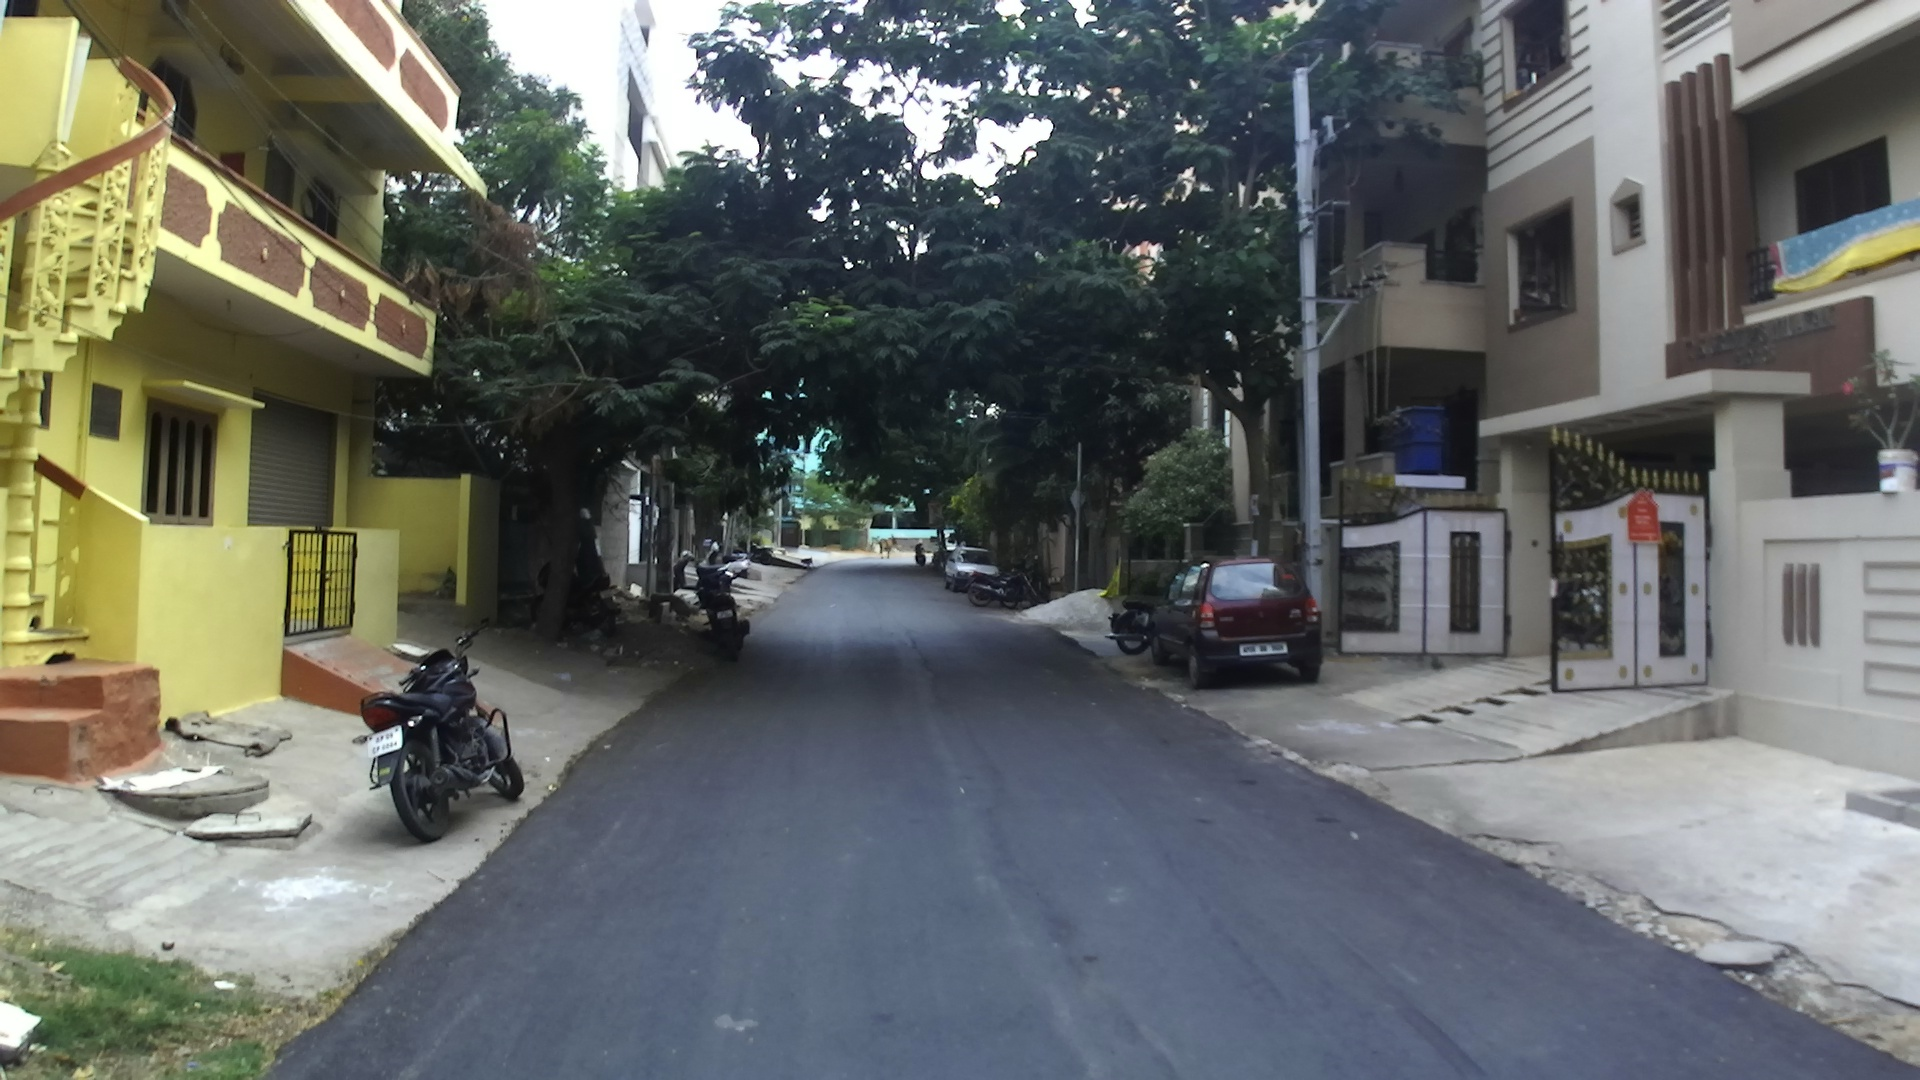vehicle: (360, 640, 524, 843), (1146, 559, 1327, 687), (1112, 589, 1164, 655), (944, 560, 1015, 605)
